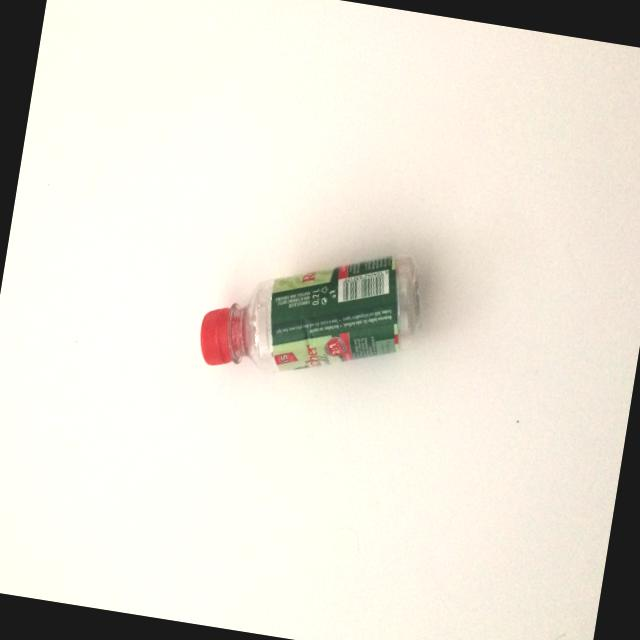Plastic: (180, 211, 456, 420)
